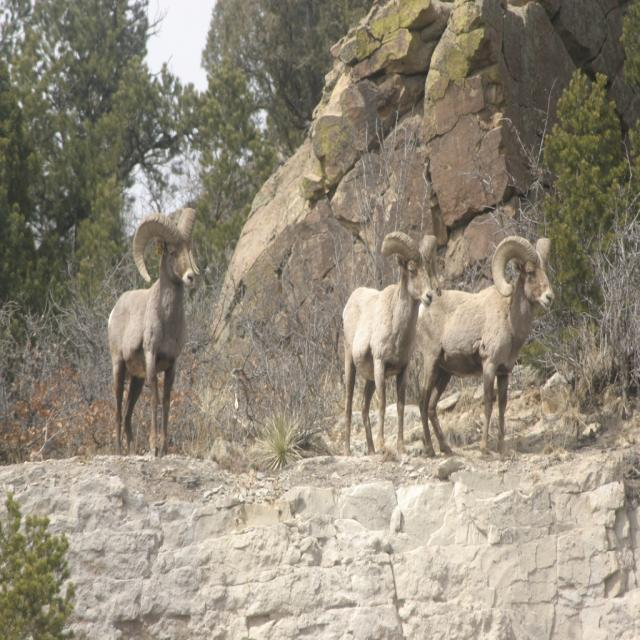Sheep: (414, 236, 554, 455), (108, 208, 200, 456), (342, 231, 442, 456)
